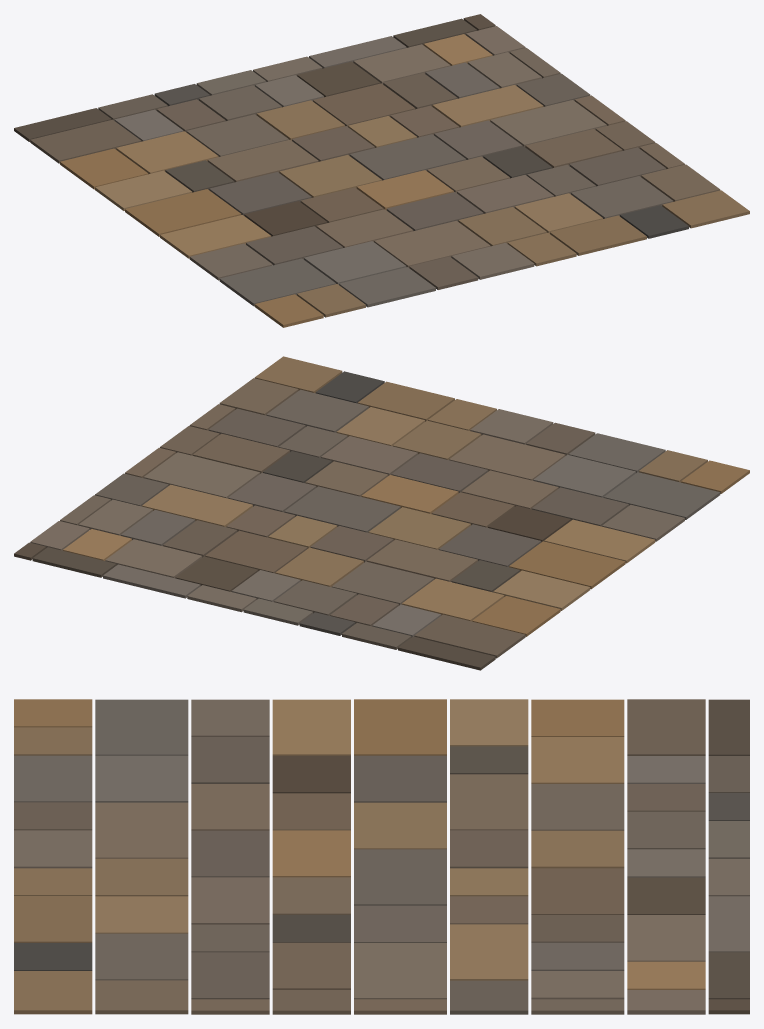
Rendered from ENV_Paving_Courtyard_A.glb.
3 renders of one model, top to bottom at view 1: azimuth 30°, elevation 25°; view 2: azimuth 150°, elevation 25°; view 3: azimuth 270°, elevation 25°, orthographic. The views are drawn at different scales.
Parts seen in each view (by area): view 1: ENV_Paving_Courtyard_A_Mesh; view 2: ENV_Paving_Courtyard_A_Mesh; view 3: ENV_Paving_Courtyard_A_Mesh.
Boxes of the visible parts, left/top/right/bottom form: ENV_Paving_Courtyard_A_Mesh: left=14, top=14, right=749, bottom=327; ENV_Paving_Courtyard_A_Mesh: left=14, top=356, right=749, bottom=670; ENV_Paving_Courtyard_A_Mesh: left=14, top=699, right=749, bottom=1014.
Bounding box in the file's own units: 9.96 × 0.0676 × 9.96.
